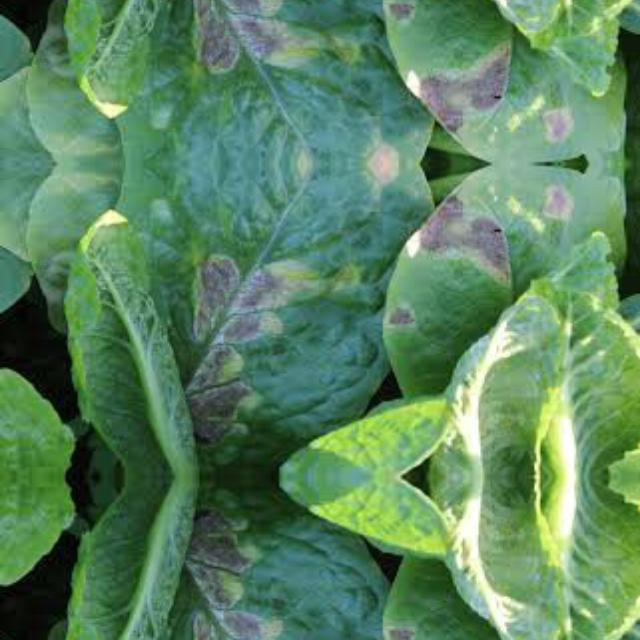Lettuce - Anthracnose: (128, 164, 434, 476), (382, 162, 628, 400), (128, 476, 434, 640), (128, 0, 434, 162), (382, 0, 627, 163), (382, 552, 627, 640)
